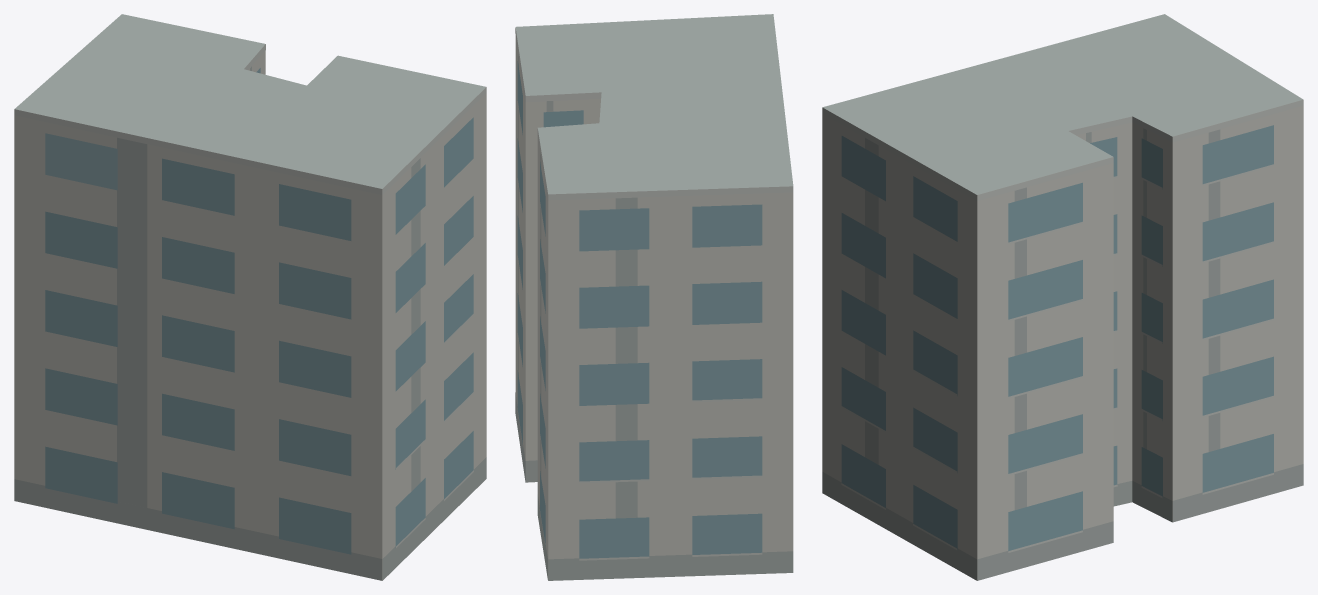
Rendered from survey-upis-33006694.glb.
3 views of the same model, side by side, from view 1: azimuth 30°, elevation 25°; view 2: azimuth 150°, elevation 25°; view 3: azimuth 270°, elevation 25° (orthographic).
Visible parts, largest first — view 1: survey-upis-33006694.tmp; view 2: survey-upis-33006694.tmp; view 3: survey-upis-33006694.tmp.
Boxes of the visible parts, <box> form: survey-upis-33006694.tmp: <box>14,14,486,580</box>; survey-upis-33006694.tmp: <box>515,14,793,580</box>; survey-upis-33006694.tmp: <box>822,14,1303,580</box>.
Size of the model in its own units: 15.36 by 15.25 by 17.25.
